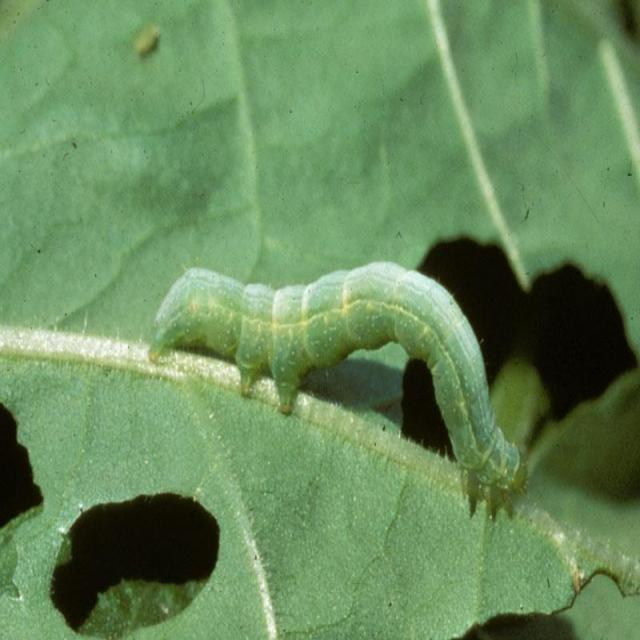armyworm: (129, 231, 543, 529)
